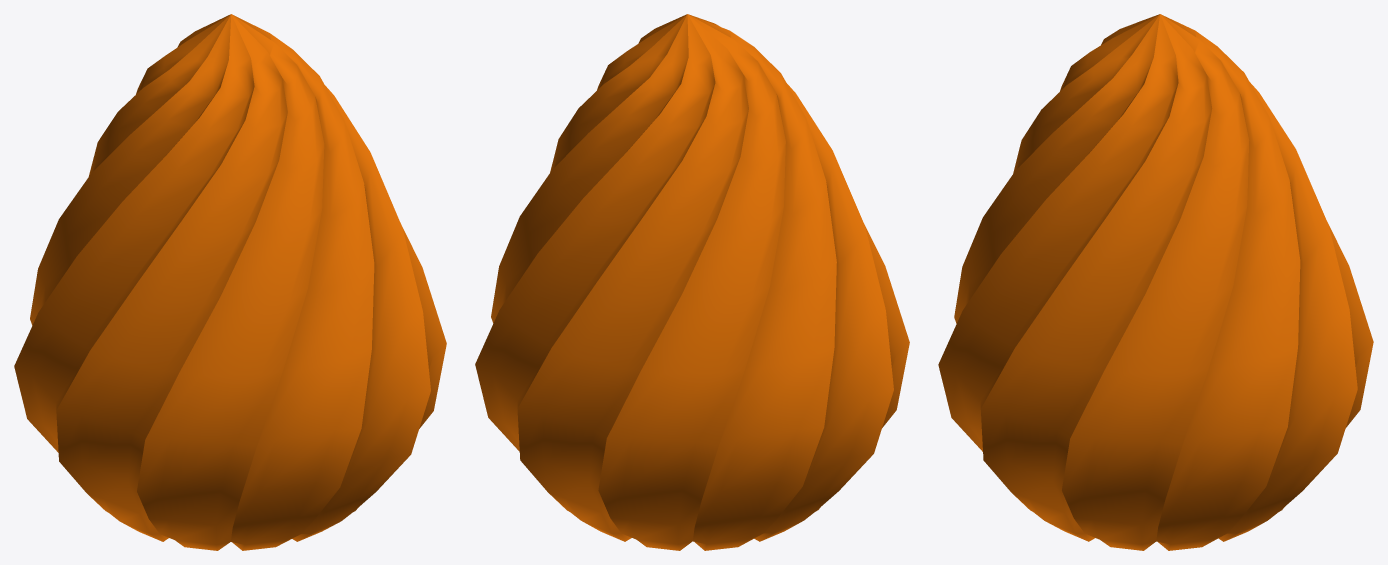
The model's file is Ice Cream Spiral A Brown.fbx.
The picture shows the model from 3 angles, left to right: view 1: azimuth 30°, elevation 25°; view 2: azimuth 150°, elevation 25°; view 3: azimuth 270°, elevation 25°; orthographic projection.
Parts seen in each view (by area): view 1: Ice Cream Spiral A Brown; view 2: Ice Cream Spiral A Brown; view 3: Ice Cream Spiral A Brown.
Boxes of the visible parts, box(x1,y1,x2,y2) form: Ice Cream Spiral A Brown: box(14, 14, 446, 550); Ice Cream Spiral A Brown: box(475, 14, 909, 550); Ice Cream Spiral A Brown: box(938, 14, 1373, 550).
Bounding box in the file's own units: 0.4046 × 0.503 × 0.4046.
